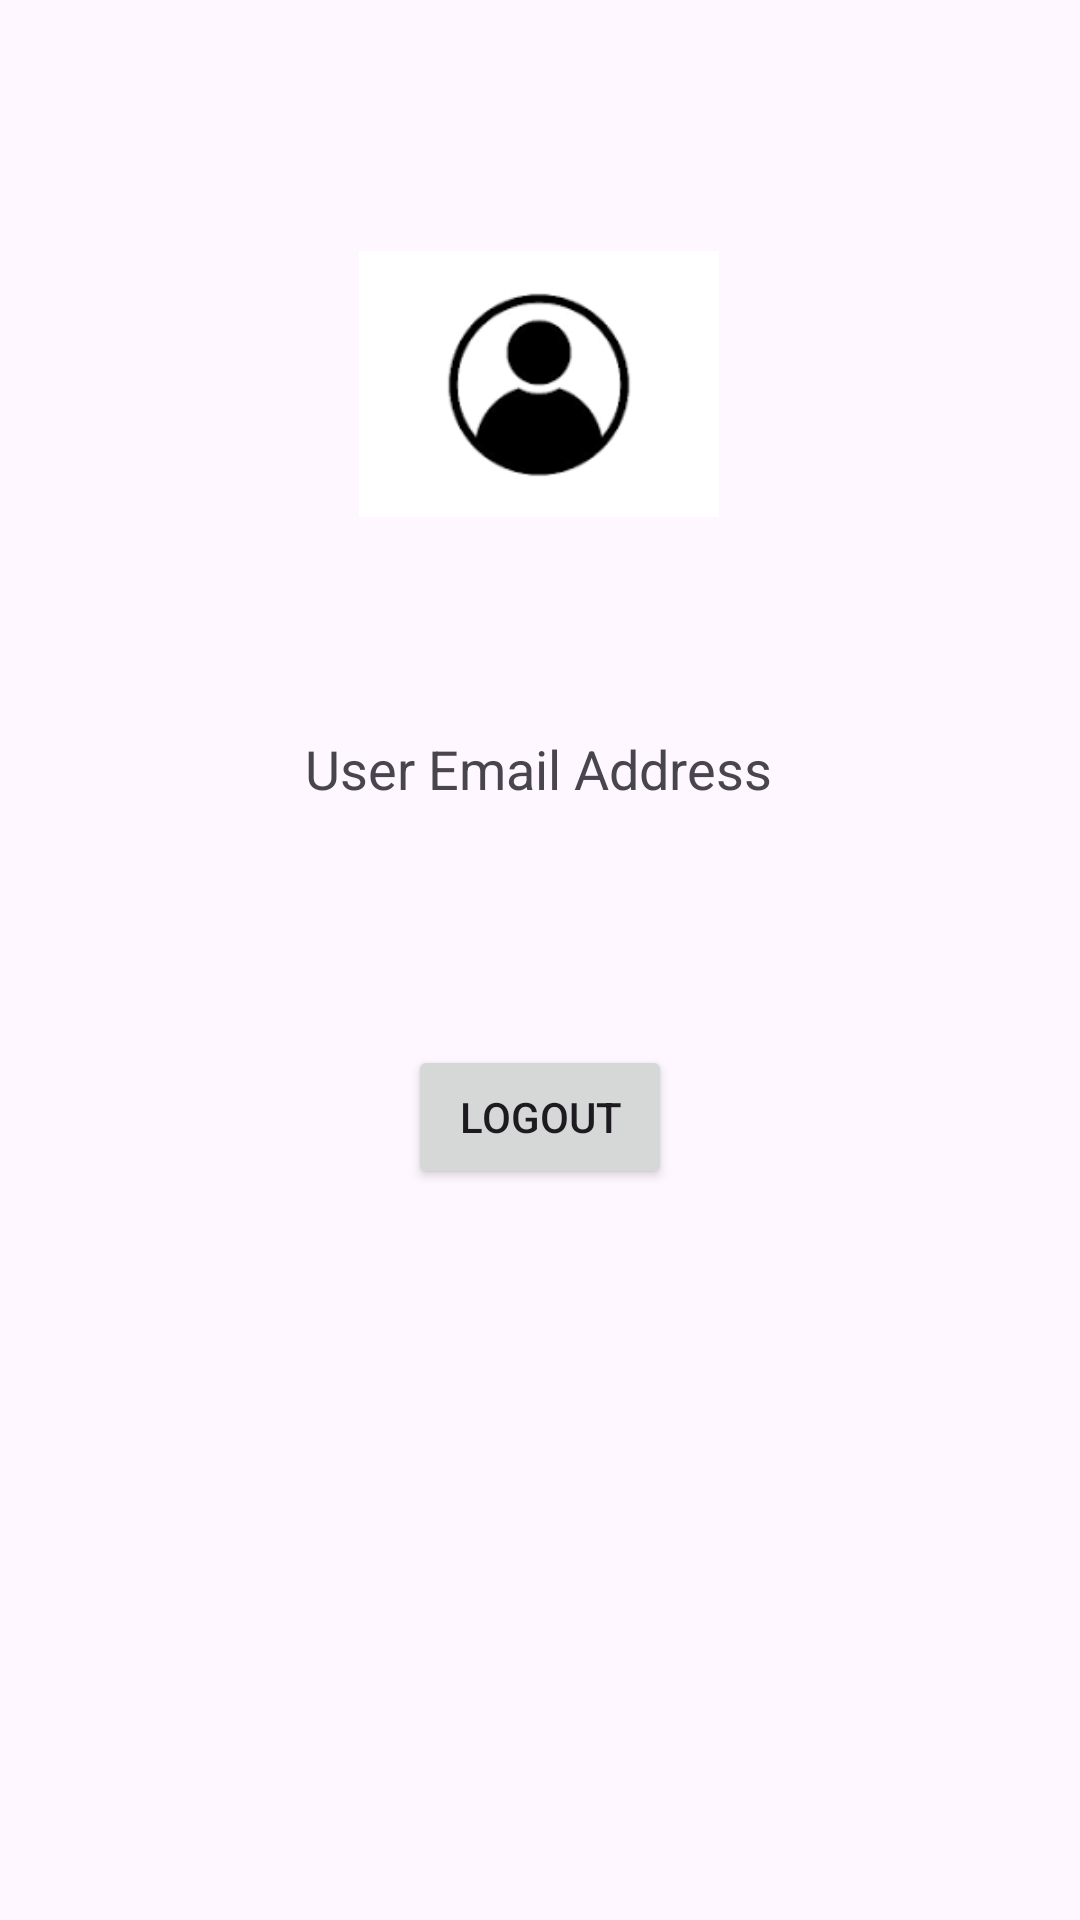

Icons on this 1080×1920 Android screen, each with the point to tap as point (x, y):
profileicon: point (539, 384)
